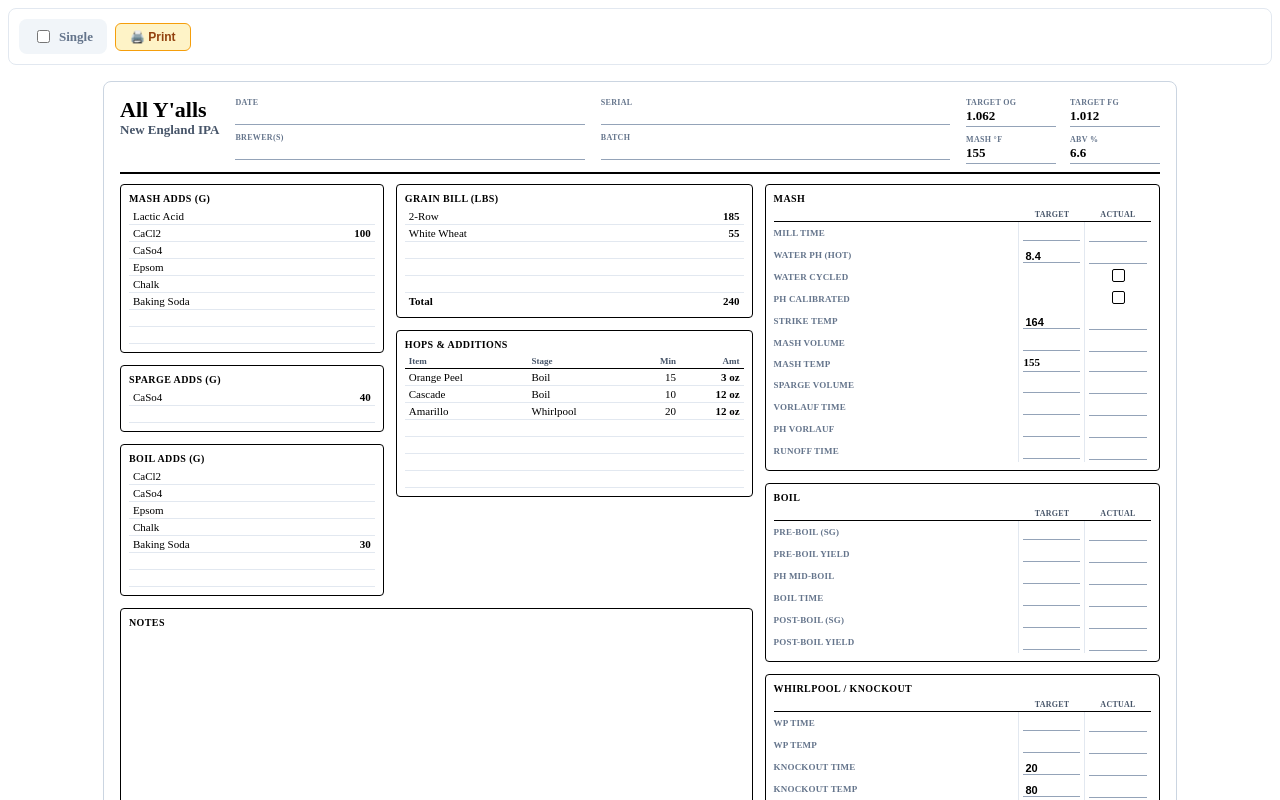
Scenario: BrewSheetPanel › single and double batches › prints two numbered pages at single-batch amounts for a double
This screenshot has width=1280, height=800.
Click the checkbox: click(44, 36) [37,30,50,43]
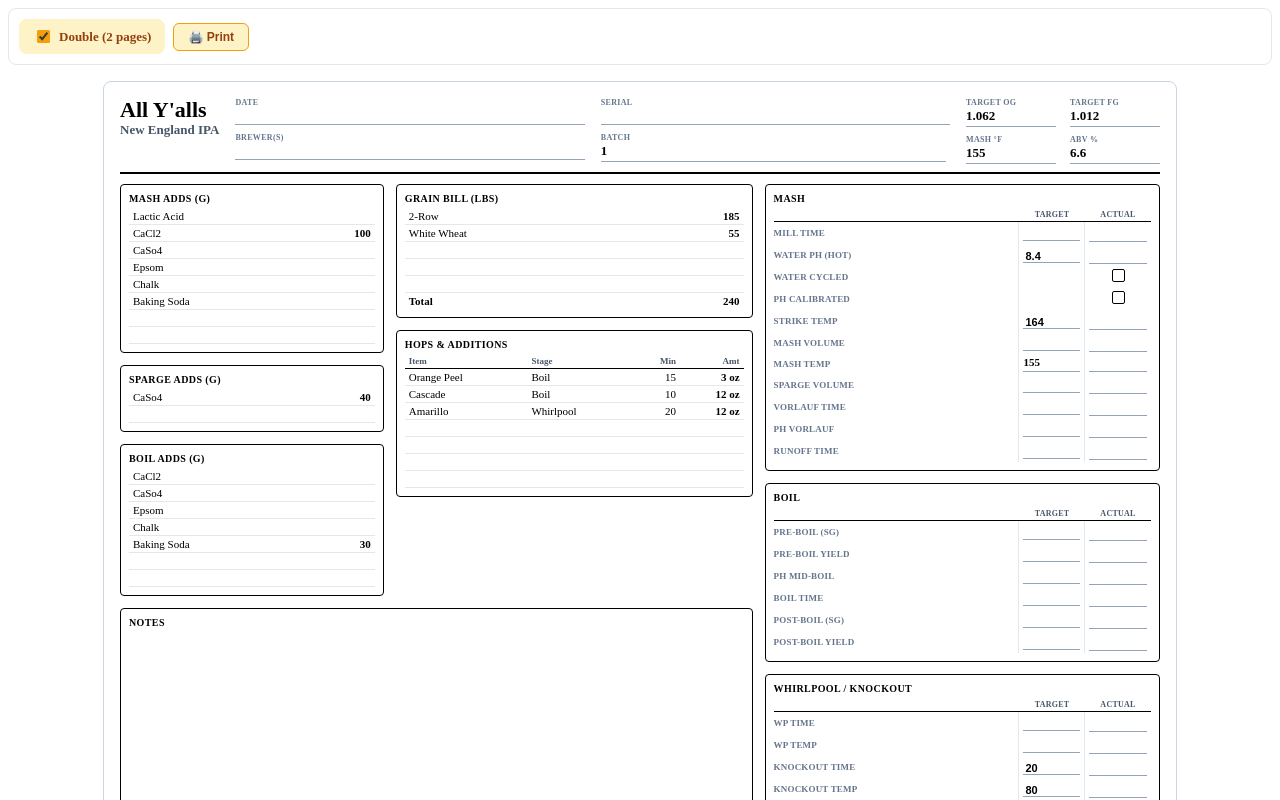
expect the row "Total 240" is shown: met, box [405,292,744,309]
expect the number of elements with class "brew-page" is 2: met
expect the text "1" is shown: met, box [601,143,946,162]
